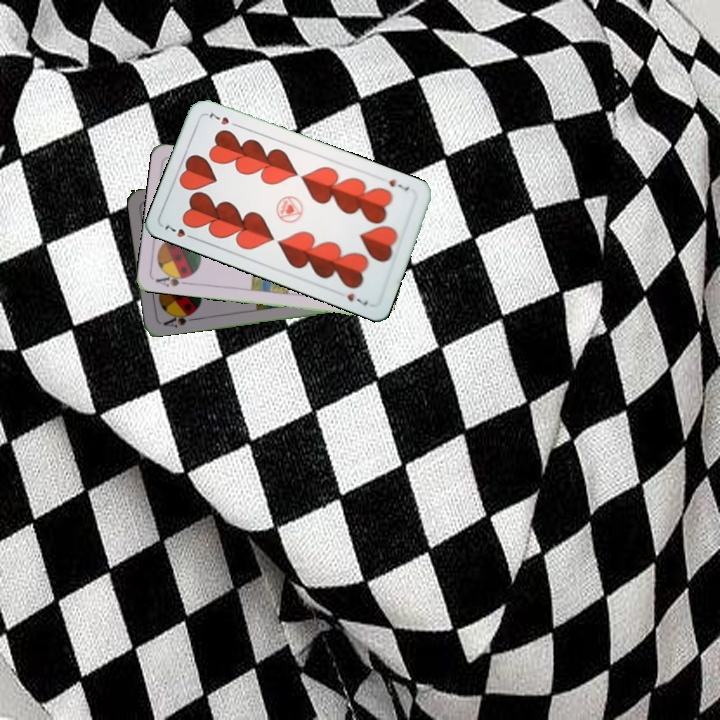H7: (160, 220, 198, 242), (383, 174, 412, 194)
SA: (159, 308, 197, 330), (151, 269, 192, 289)
